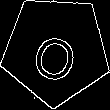O_N: (27, 18, 84, 82)
